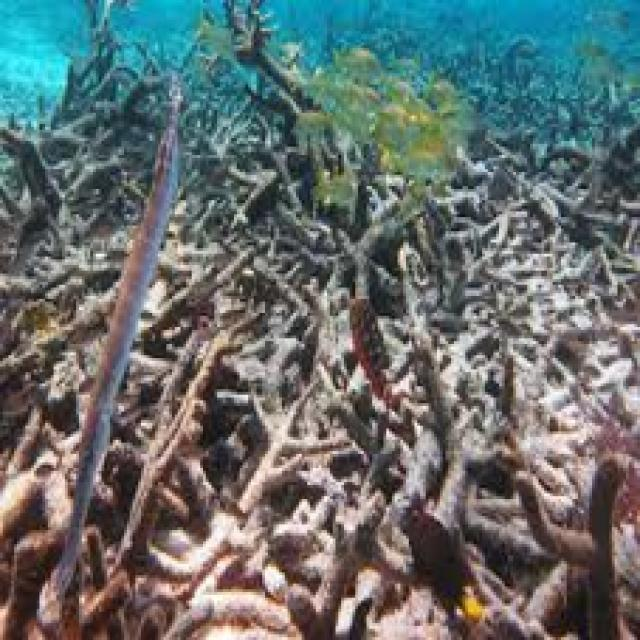Dead Coral: (0, 275, 560, 640), (176, 21, 346, 242), (0, 9, 138, 240), (473, 115, 640, 251)
